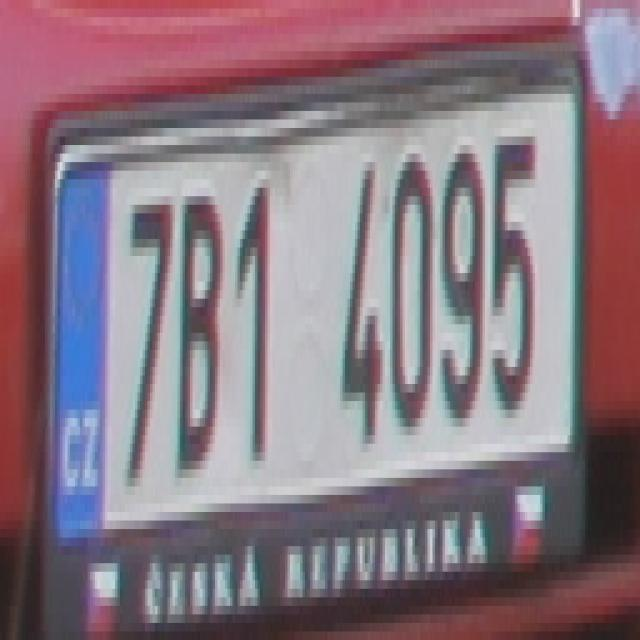0: (390, 145, 432, 427)
1: (235, 162, 275, 452)
4: (340, 162, 382, 444)
5: (490, 128, 542, 427)
7: (125, 188, 175, 495)
9: (440, 145, 482, 427)
B: (178, 188, 220, 470)
